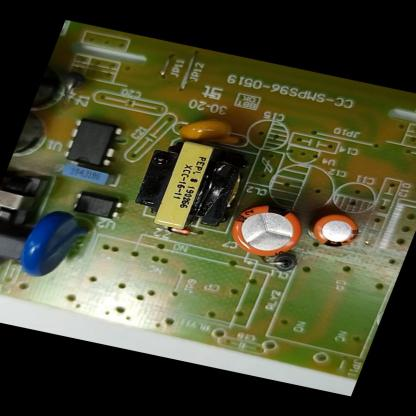Cap1: (218, 196, 314, 262)
Cap2: (302, 205, 370, 254)
Cap3: (9, 112, 57, 169)
Cap4: (28, 61, 78, 120)
MOSFET: (56, 112, 132, 172)
Mov: (8, 202, 102, 288)
Resistor: (0, 248, 11, 287)
Transformer: (122, 131, 264, 242), (0, 163, 60, 234)
